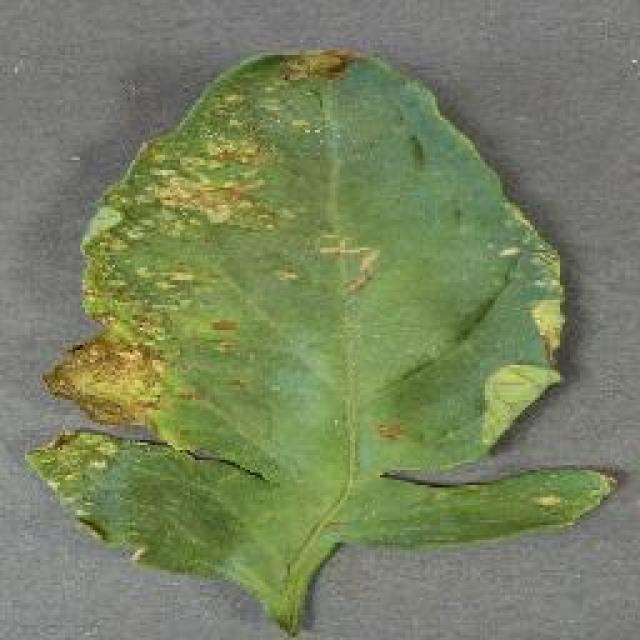Tomato___Bacterial_spot: (12, 52, 629, 638)
